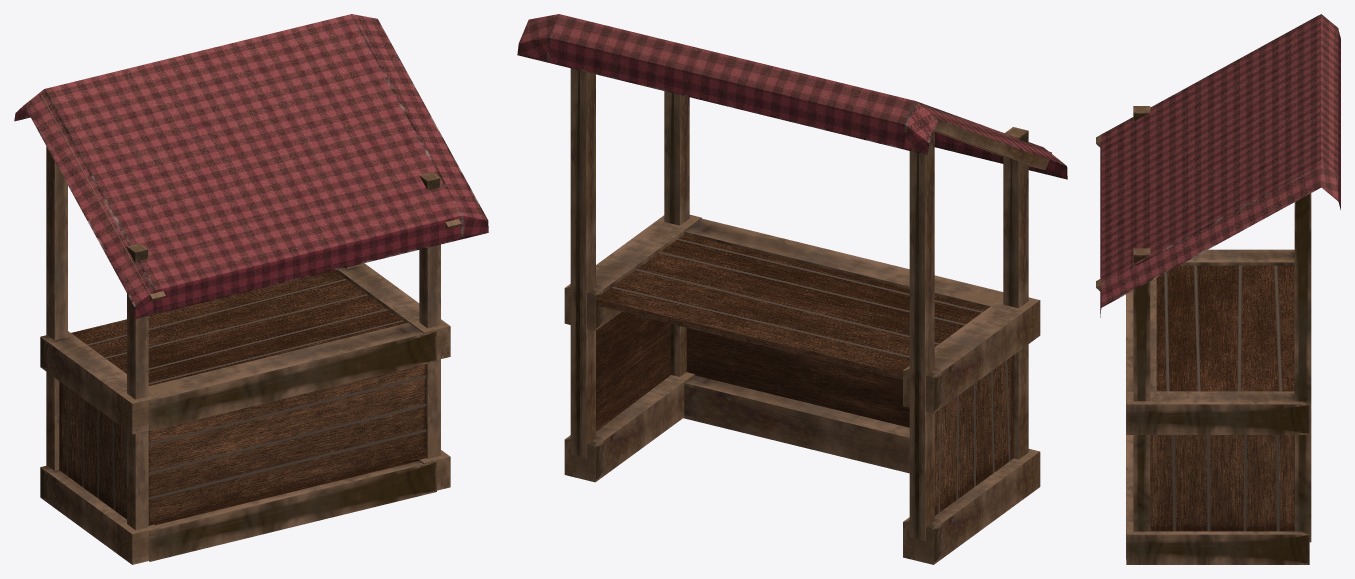
Rendered from Stand1.fbx.
The picture shows the model from 3 angles, left to right: view 1: azimuth 30°, elevation 25°; view 2: azimuth 150°, elevation 25°; view 3: azimuth 270°, elevation 25°; orthographic projection. The views are drawn at different scales.
Parts seen in each view (by area): view 1: Plane; view 2: Plane; view 3: Plane.
Part boxes in pixels (x1,y1,x2,y2): Plane: [14, 14, 488, 564]; Plane: [517, 14, 1067, 564]; Plane: [1096, 14, 1340, 564].
Size of the model in its own units: 235 by 256 by 142.
